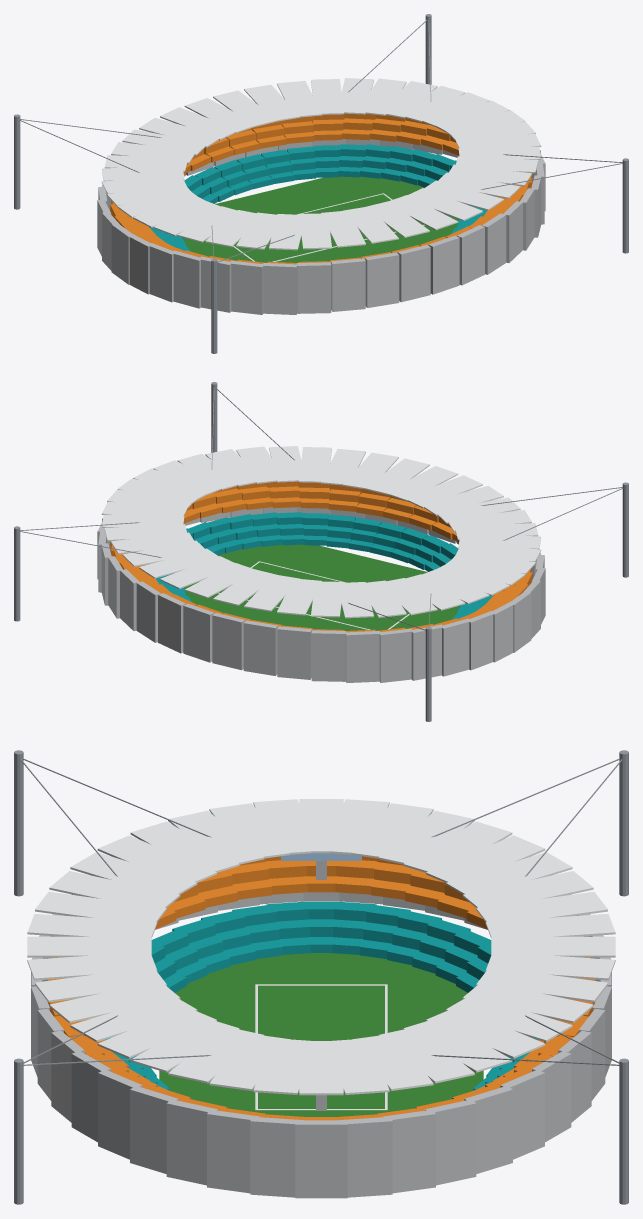
Rendered from estadio-miami.glb.
3 renders of one model, top to bottom at view 1: azimuth 30°, elevation 25°; view 2: azimuth 150°, elevation 25°; view 3: azimuth 270°, elevation 25°, orthographic. The views are drawn at different scales.
Parts seen in each view (by area): view 1: estadio-miami; view 2: estadio-miami; view 3: estadio-miami.
Part boxes in pixels (<box>): estadio-miami: <box>14,14,628,353</box>; estadio-miami: <box>14,382,628,721</box>; estadio-miami: <box>14,750,628,1204</box>.
Size of the model in its own units: 273 by 58 by 228.
